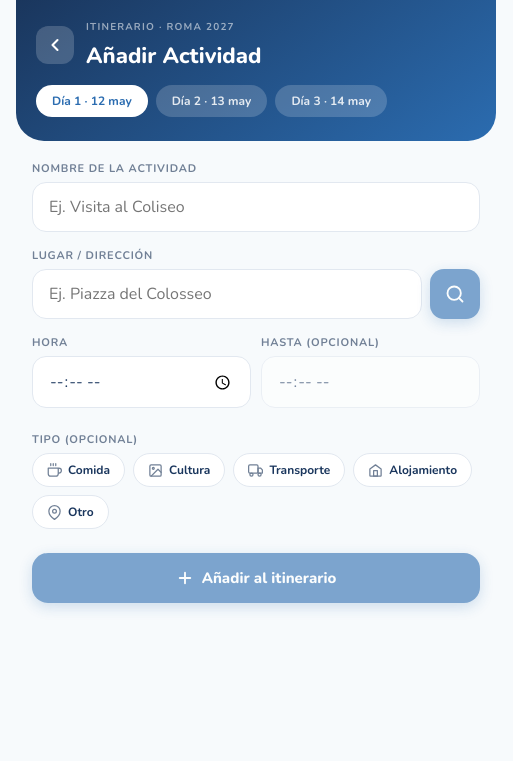
Scenario: AnadirActividad · buscador de direcciones › al elegir un resultado rellena el lugar, lo marca como localizado y cierra la lista
Type "Roma" into the field labelled "Lugar / Dirección" at [227, 294], box left=32, top=269, right=422, bottom=319
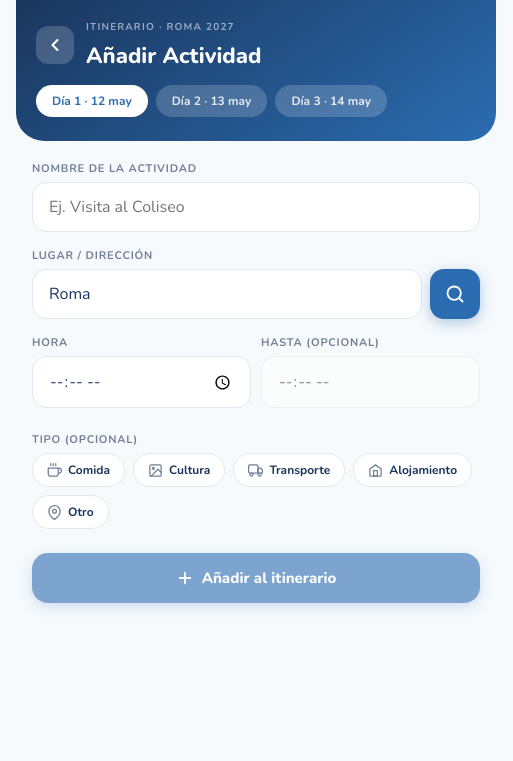
Click the button named "Buscar dirección" at [455, 294], box left=430, top=269, right=480, bottom=319
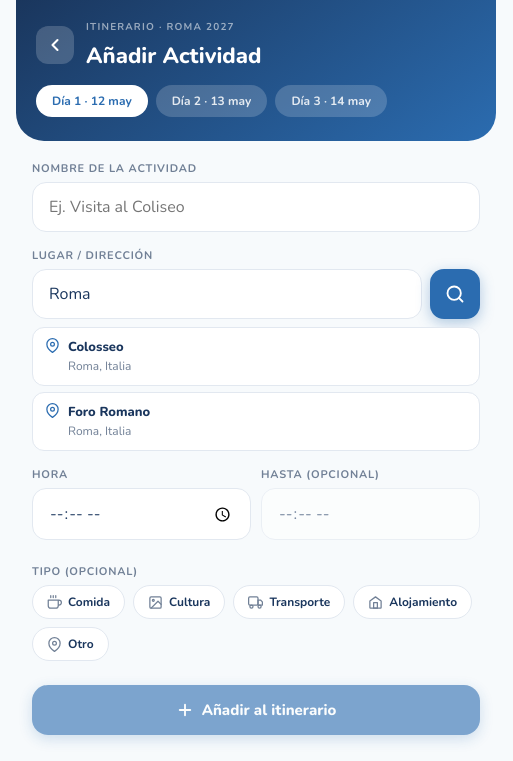
Click the button "Foro Romano Roma, Italia" at [109, 412], box left=32, top=392, right=480, bottom=451
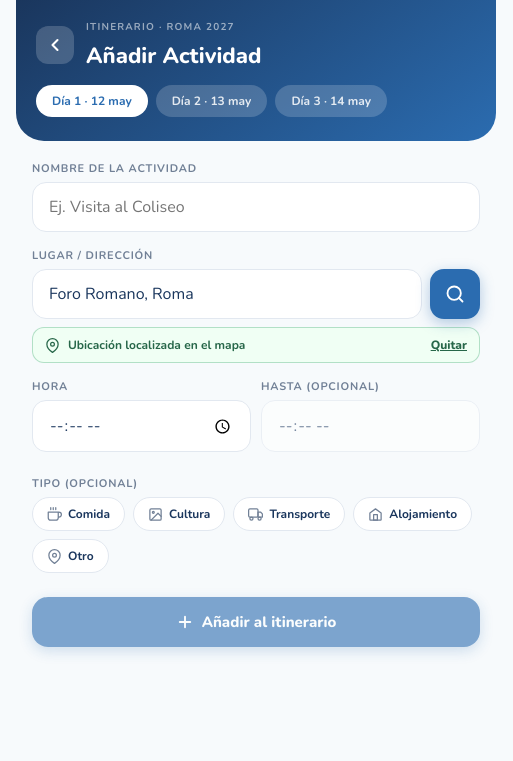
Now the field labelled "Lugar / Dirección" holds "Foro Romano, Roma", box left=32, top=269, right=422, bottom=319
Now the text "Ubicación localizada en el mapa" is shown, box left=68, top=337, right=245, bottom=353
